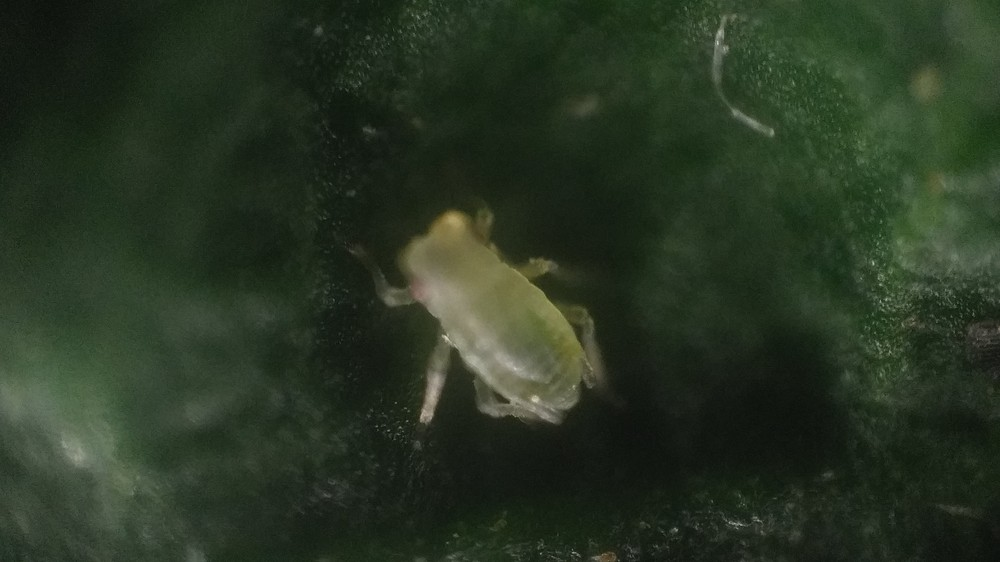Pulgon: (321, 161, 664, 457)
